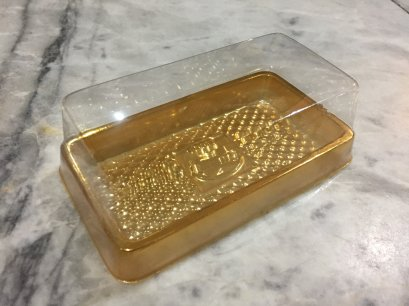PlasticBox: (54, 31, 362, 286)
